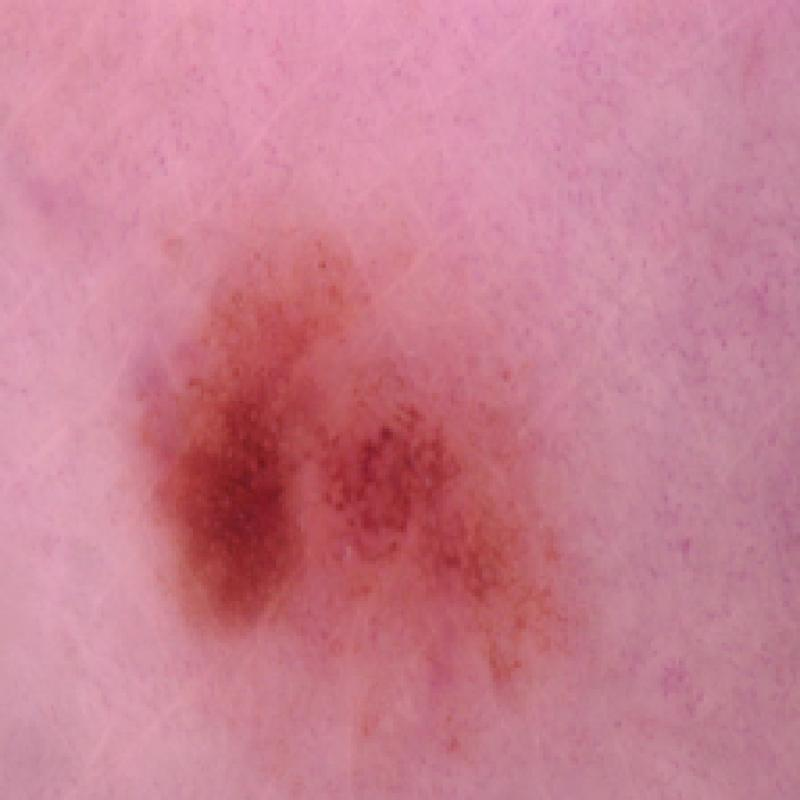benign: (112, 221, 586, 708)
